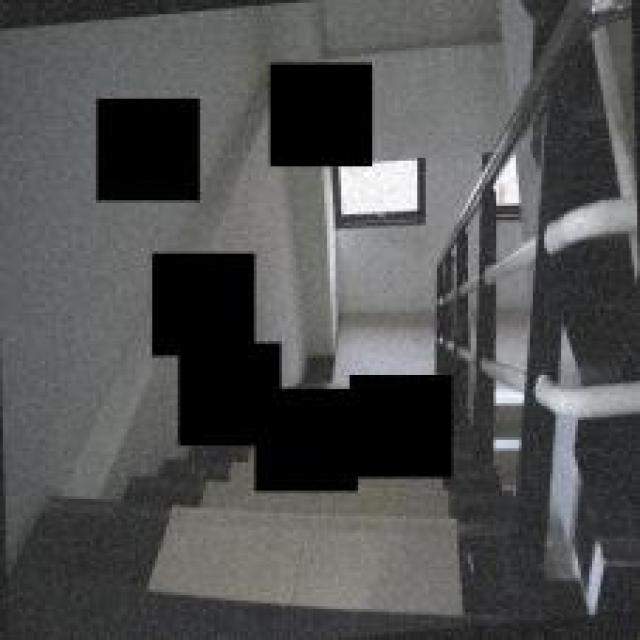downstair: (135, 470, 248, 614)
